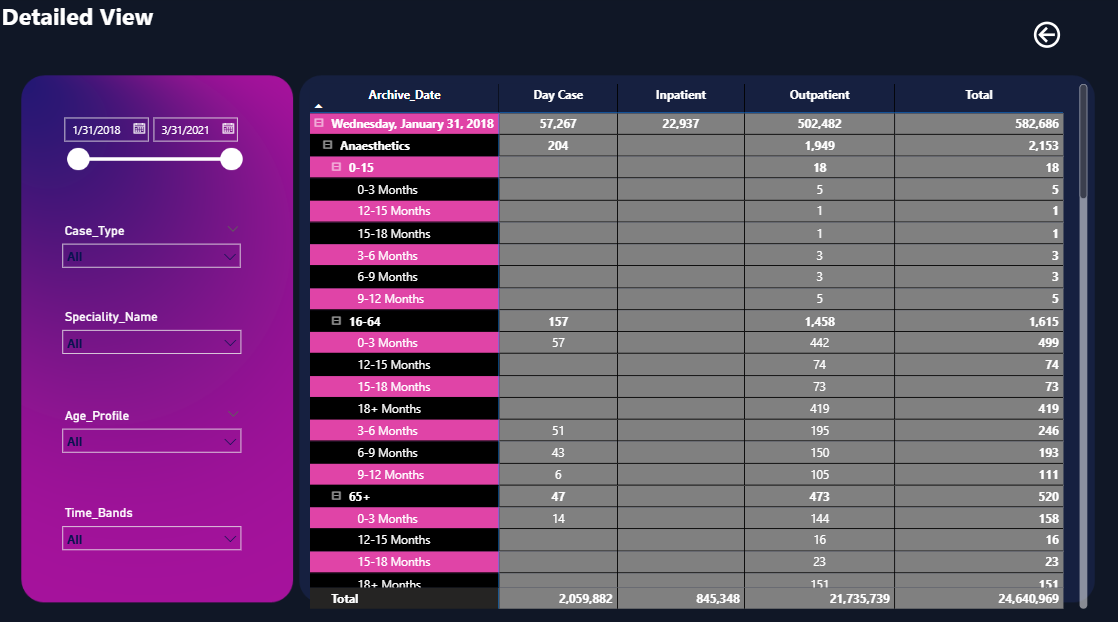

The page's visual inventory and layout, read from the dashboard file:
{"tool":"powerbi","page":{"name":"Detail","canvas":[1280,720],"ordinal":1},"visuals":[{"type":"slicer","fields":{"Values":["All_Data.Archive_Date"]},"box":[64,128,224,80],"z":0},{"type":"slicer","fields":{"Values":["All_Data.Case_Type"]},"box":[64.1,253.7,223.8,64.1],"z":1000},{"type":"slicer","fields":{"Values":["All_Data.Speciality_Name"]},"box":[64,352,224,64],"z":2000},{"type":"textbox","box":[0,0,224,48],"z":3000},{"type":"slicer","fields":{"Values":["All_Data.Age_Profile"]},"box":[64,464,224,64],"z":4000},{"type":"slicer","fields":{"Values":["All_Data.Time_Bands"]},"box":[64,576,224,64],"z":5000},{"type":"pivotTable","fields":{"Rows":["All_Data.Archive_Date","All_Data.Speciality_Name","All_Data.Age_Profile","All_Data.Time_Bands"],"Columns":["All_Data.Case_Type"],"Values":["Sum(All_Data.Total)"]},"box":[352,96,896,608],"z":6000},{"type":"actionButton","box":[1177.4,24.2,58.4,39.9],"z":7000}]}

Visuals, with their boxes in screenshot pixels (x1, y1, x2, y2), scaled from the page's 1280x720 canvas onto the 1118x622 screenshot:
slicer - All_Data.Archive_Date: detection(56, 111, 252, 180)
slicer - All_Data.Case_Type: detection(56, 219, 251, 275)
slicer - All_Data.Speciality_Name: detection(56, 304, 252, 359)
textbox: detection(0, 0, 196, 41)
slicer - All_Data.Age_Profile: detection(56, 401, 252, 456)
slicer - All_Data.Time_Bands: detection(56, 498, 252, 553)
pivotTable - All_Data.Archive_Date x All_Data.Speciality_Name: detection(307, 83, 1090, 608)
actionButton: detection(1028, 21, 1079, 55)
